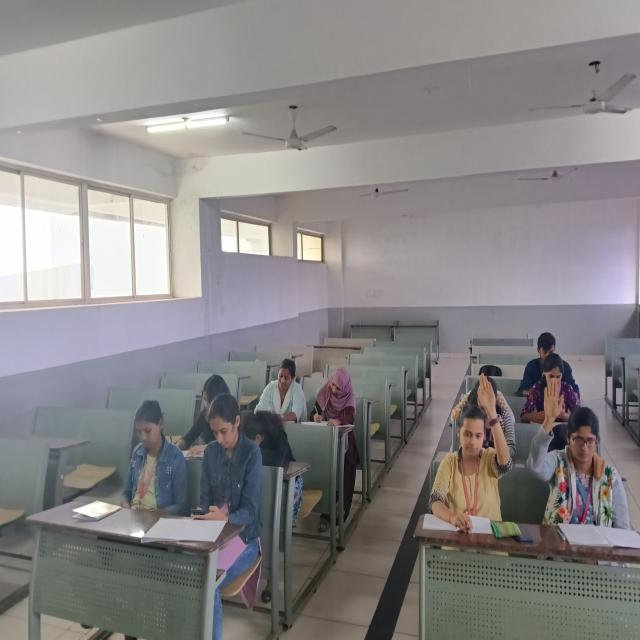Hand Rising: (533, 389, 628, 526), (421, 384, 525, 504)
Reading: (243, 360, 310, 424)
Sleeping: (245, 404, 305, 475), (456, 374, 518, 412)
Using Phone: (106, 412, 184, 527), (193, 412, 252, 518), (524, 369, 598, 431), (465, 389, 519, 448)
Writing: (157, 376, 240, 456), (313, 366, 365, 437)
